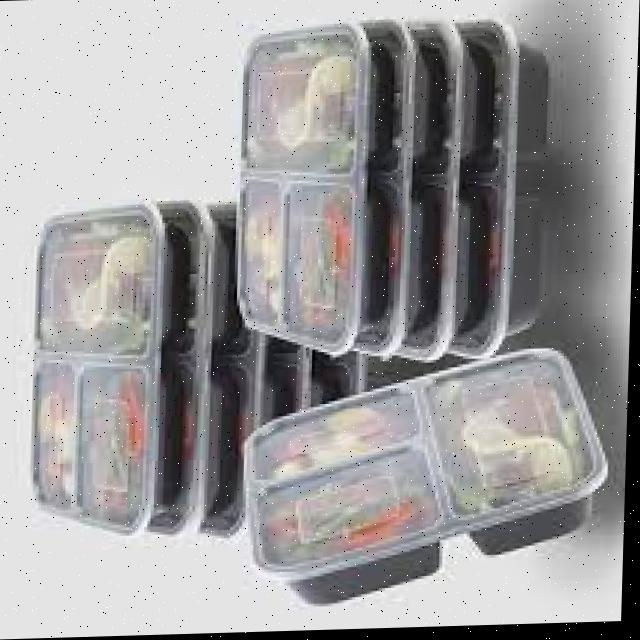disposable: (243, 343, 625, 614), (220, 12, 419, 339), (19, 190, 206, 533)
